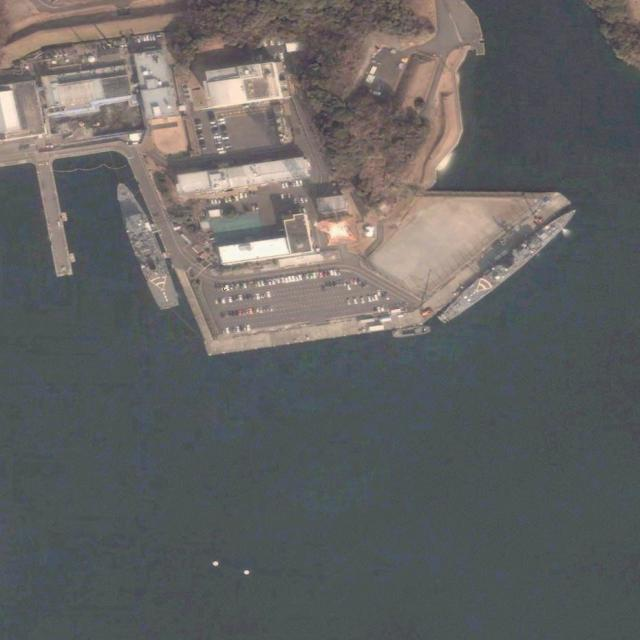Destroyer: (440, 202, 581, 325)
Dock: (34, 155, 74, 276)
